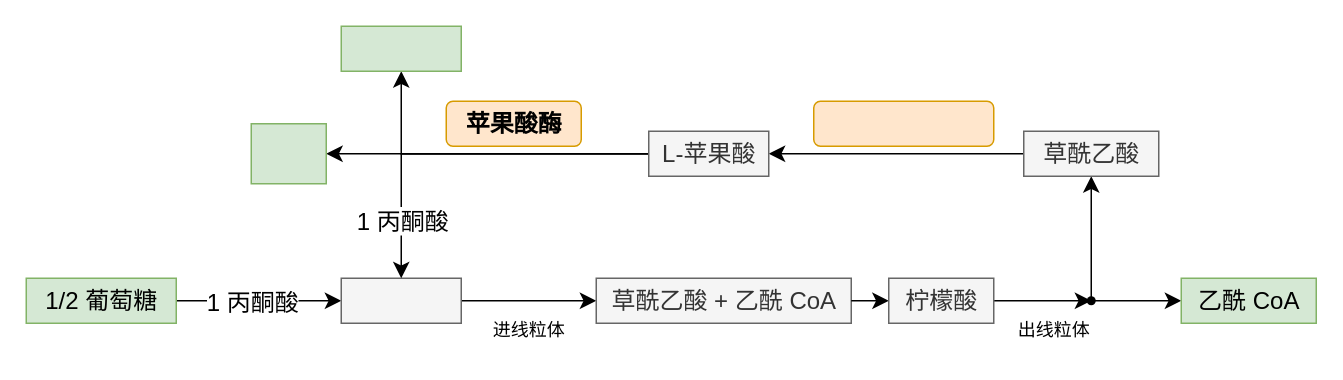
Some shapes in this 1343 by 380 pixel diagram are drawn without their labels. The centre of each missing label's shape, as x and y in pixels:
2 丙酮酸: the point at 400,300
CO 2: the point at 288,153
NADPH: the point at 400,48
苹果酸脱氢酶: the point at 903,123
